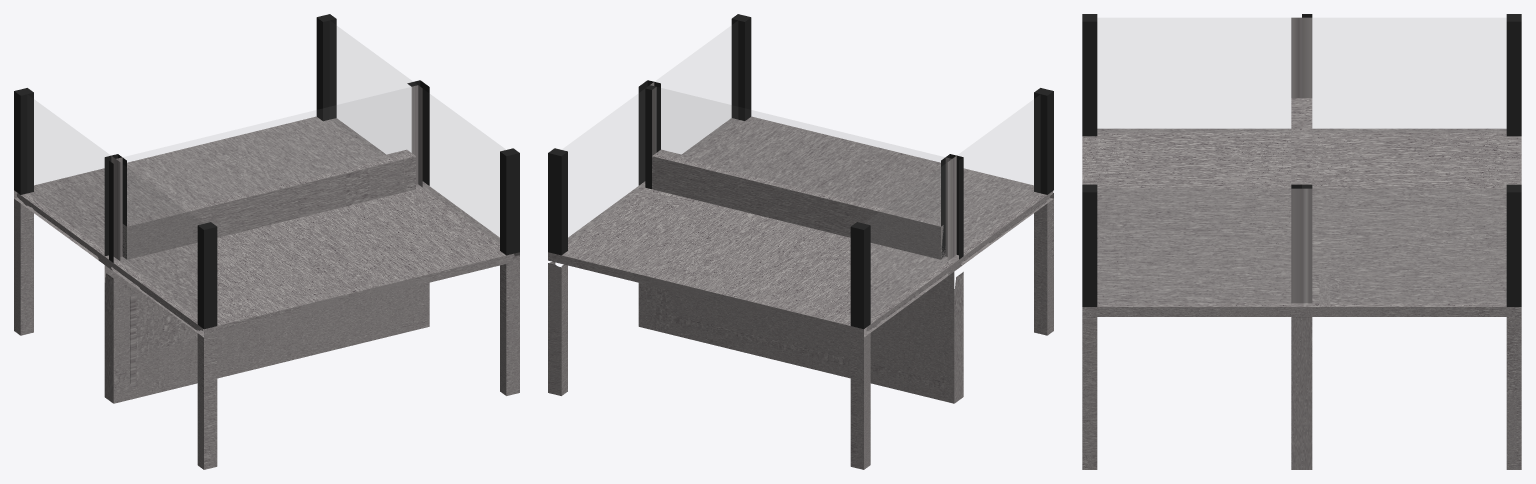
File: stół.fbx
The picture shows the model from 3 angles, left to right: view 1: azimuth 30°, elevation 25°; view 2: azimuth 150°, elevation 25°; view 3: azimuth 270°, elevation 25°; orthographic projection. The views are drawn at different scales.
Visible parts, largest first — view 1: Stół; view 2: Stół; view 3: Stół.
Boxes of the visible parts, x1,y1,x2,y2 form: Stół: (14,14,519,469); Stół: (548,14,1053,469); Stół: (1082,14,1521,469).
Size of the model in its own units: 999 by 725 by 1041.
Materials: 8 (6 with a texture image).
